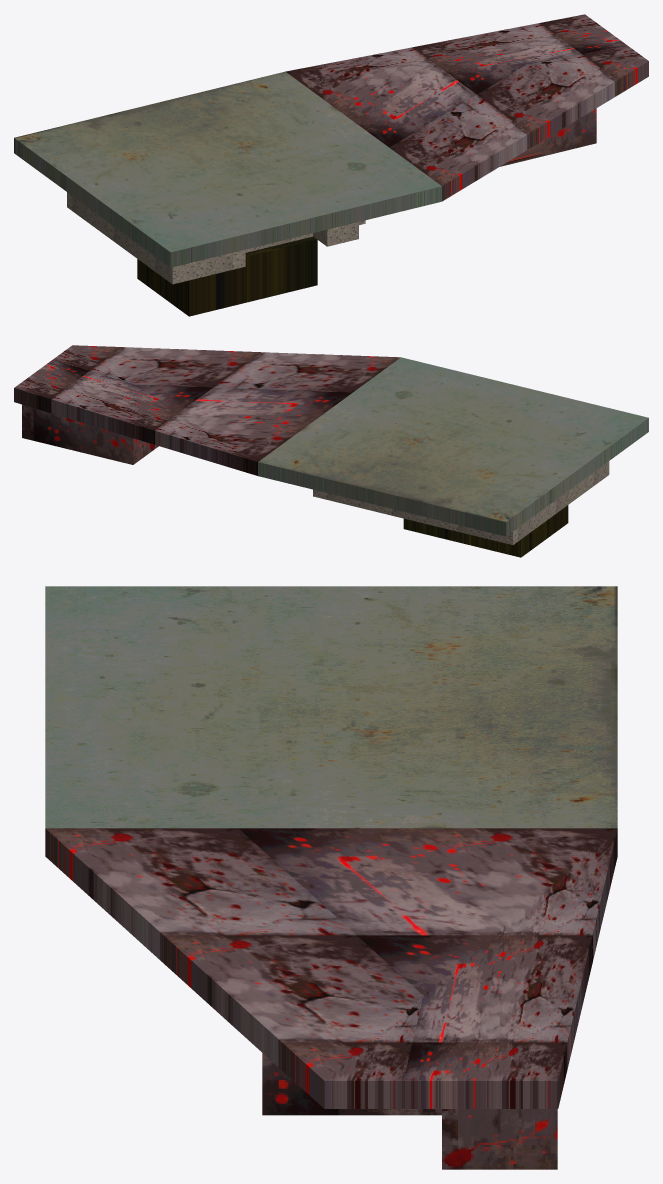
File: room.glb
3 views of the same model, one above another, from view 1: azimuth 30°, elevation 25°; view 2: azimuth 150°, elevation 25°; view 3: azimuth 270°, elevation 25° (orthographic). The views are drawn at different scales.
Parts seen in each view (by area): view 1: Plane-col, env_room_floor.001-col, env_room_walls.001-col, env_room_walls_off.003-col; view 2: Plane-col, env_room_walls_off.003-col, env_room_walls.001-col, env_room_floor.001-col; view 3: Plane-col, env_room_walls_off.003-col.
Part boxes in pixels (left/top/right/bottom): Plane-col: left=14, top=14, right=648, bottom=267; env_room_floor.001-col: left=137, top=236, right=317, bottom=316; env_room_walls.001-col: left=67, top=192, right=365, bottom=284; env_room_walls_off.003-col: left=500, top=108, right=596, bottom=166; Plane-col: left=14, top=345, right=648, bottom=536; env_room_walls_off.003-col: left=22, top=404, right=158, bottom=464; env_room_walls.001-col: left=313, top=461, right=609, bottom=544; env_room_floor.001-col: left=403, top=505, right=568, bottom=557; Plane-col: left=45, top=586, right=617, bottom=1108; env_room_walls_off.003-col: left=262, top=1053, right=557, bottom=1169.
Bounding box in the file's own units: 45.56 × 8.18 × 22.29.
4 materials, 4 textured.
